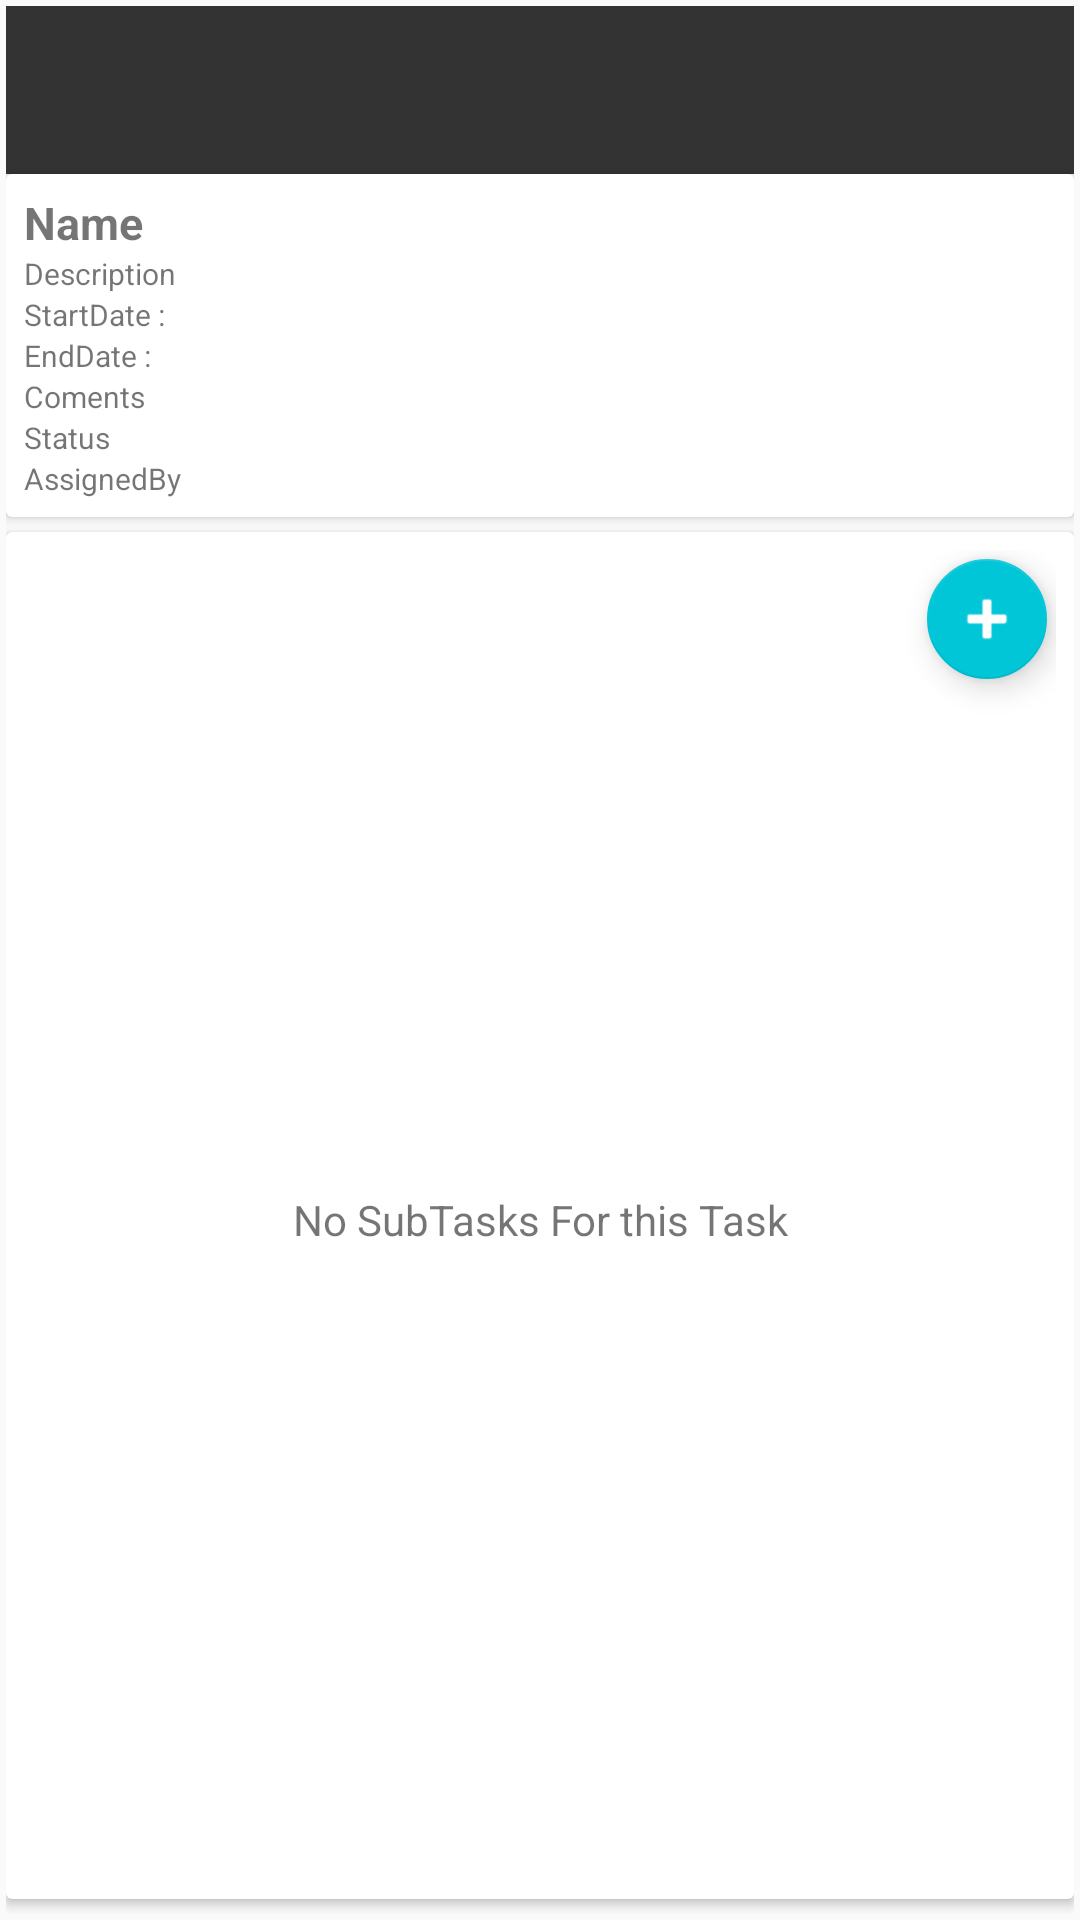

Where to tap for icons on this 1080x1920 app screen, as (x,y):
add: (987,619)
